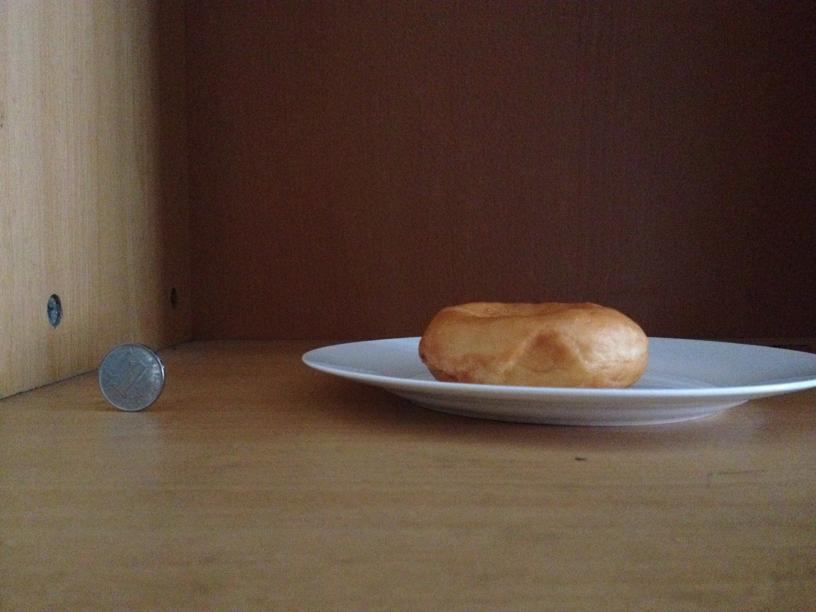coin: (93, 343, 165, 412)
doughnut: (422, 297, 648, 389)
